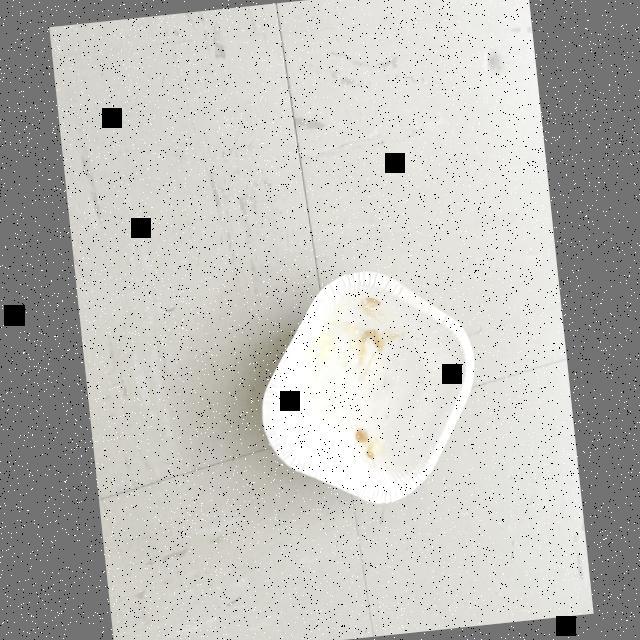cardboard_bowl: (239, 255, 494, 524)
